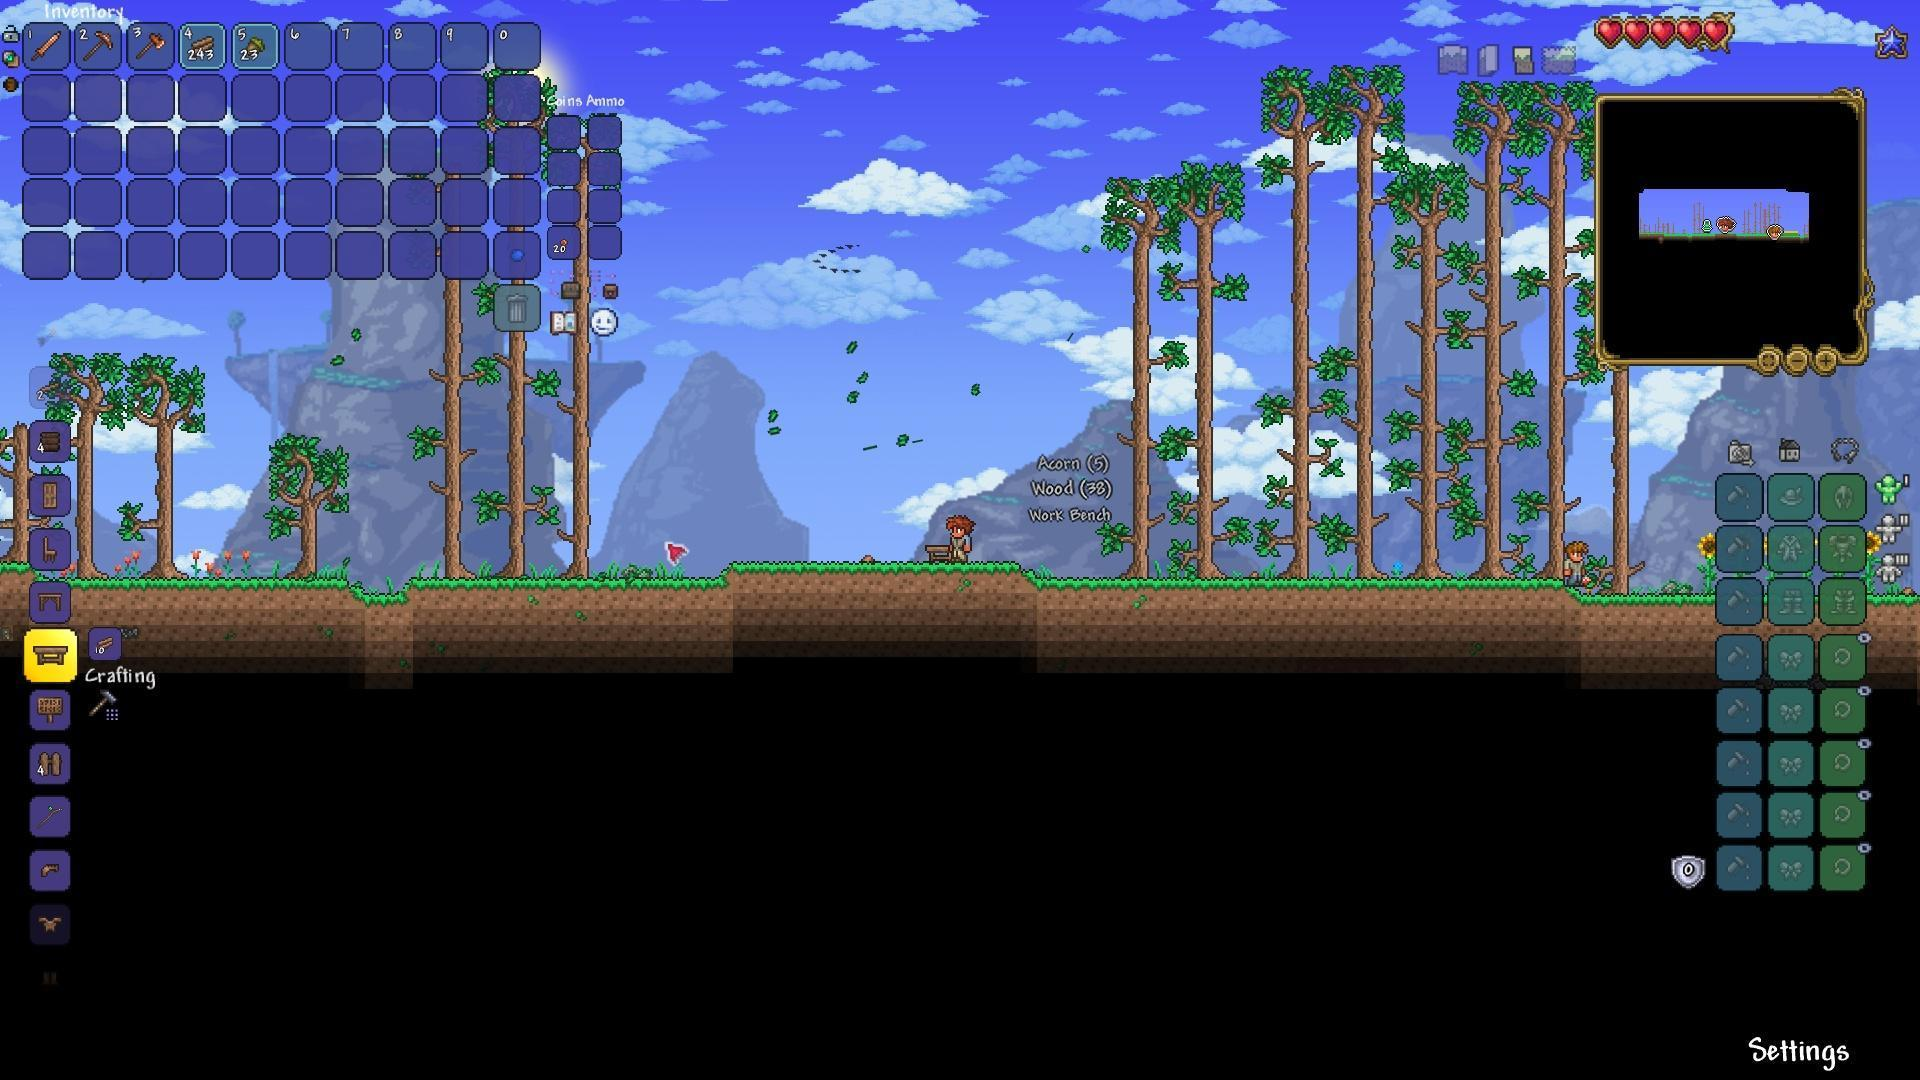breastplate: (34, 914, 71, 934)
helmet: (37, 858, 67, 886)
wood: (189, 33, 215, 58), (98, 634, 113, 650)
workbench: (922, 542, 959, 567), (34, 644, 65, 669)
